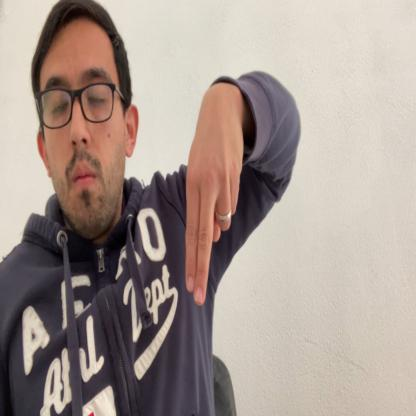N: (184, 84, 242, 307)
